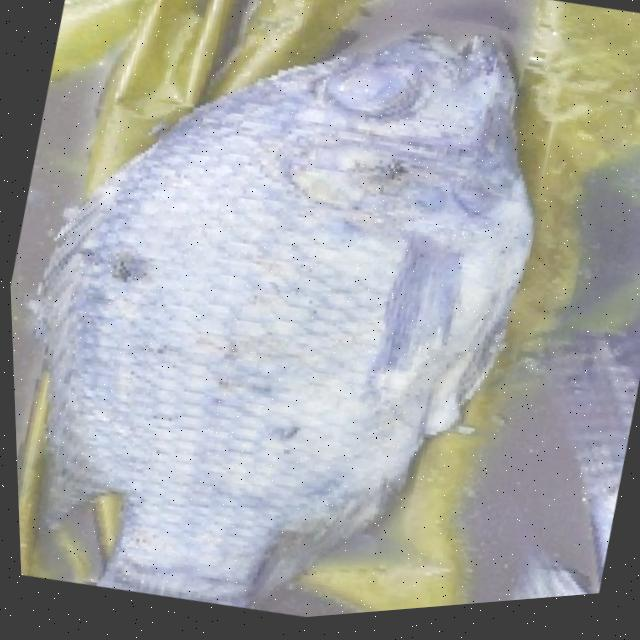Non-Fresh: (0, 0, 574, 640), (309, 37, 434, 150)
